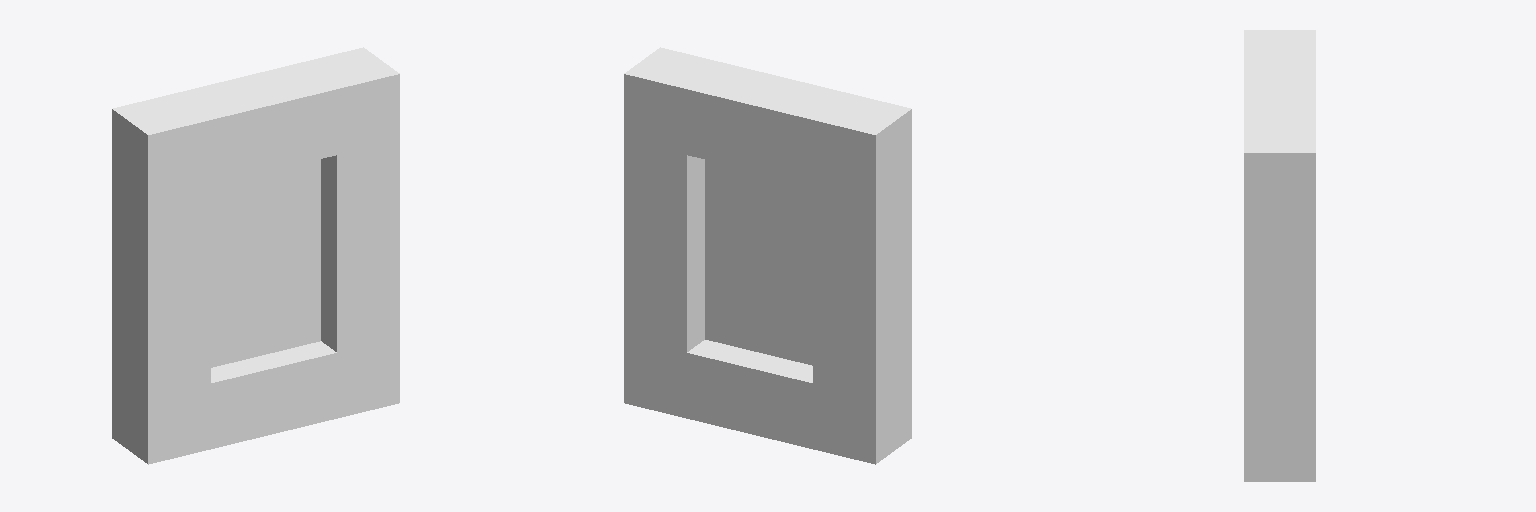
File: NetherPortal.obj
The picture shows the model from 3 angles: view 1: azimuth 30°, elevation 25°; view 2: azimuth 150°, elevation 25°; view 3: azimuth 270°, elevation 25°; orthographic projection.
Visible parts, largest first — view 1: object 1; view 2: object 1; view 3: object 1.
Boxes of the visible parts, x1,y1,x2,y2 form: object 1: [112, 47, 399, 464]; object 1: [624, 47, 911, 464]; object 1: [1244, 30, 1315, 481].
Size of the model in its own units: 6.4 by 8 by 1.6.